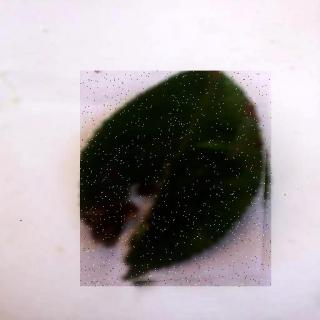Brown Blight: (82, 73, 274, 289)
